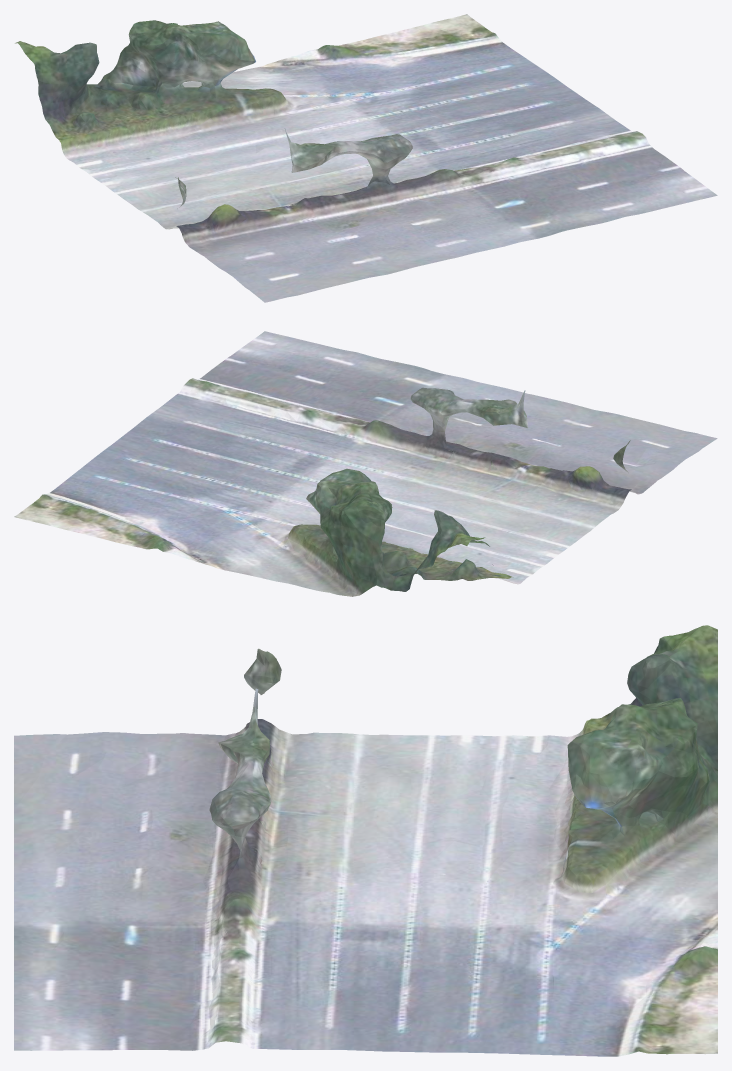
Rendered from Tile_+003_+008_L22_00013000.glb.
3 views of the same model, one above another, from view 1: azimuth 30°, elevation 25°; view 2: azimuth 150°, elevation 25°; view 3: azimuth 270°, elevation 25° (orthographic). The views are drawn at different scales.
Parts seen in each view (by area): view 1: rtc; view 2: rtc; view 3: rtc.
Part boxes in pixels (x1,y1,x2,y2): rtc: (15, 14, 717, 302); rtc: (14, 331, 717, 596); rtc: (14, 625, 717, 1056).
Size of the model in its own units: 25.06 by 4.95 by 24.03.
1 material, 1 textured.
